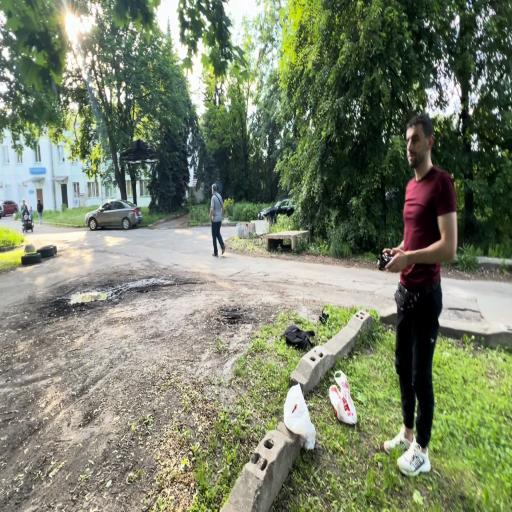drone: (119, 138, 162, 165)
